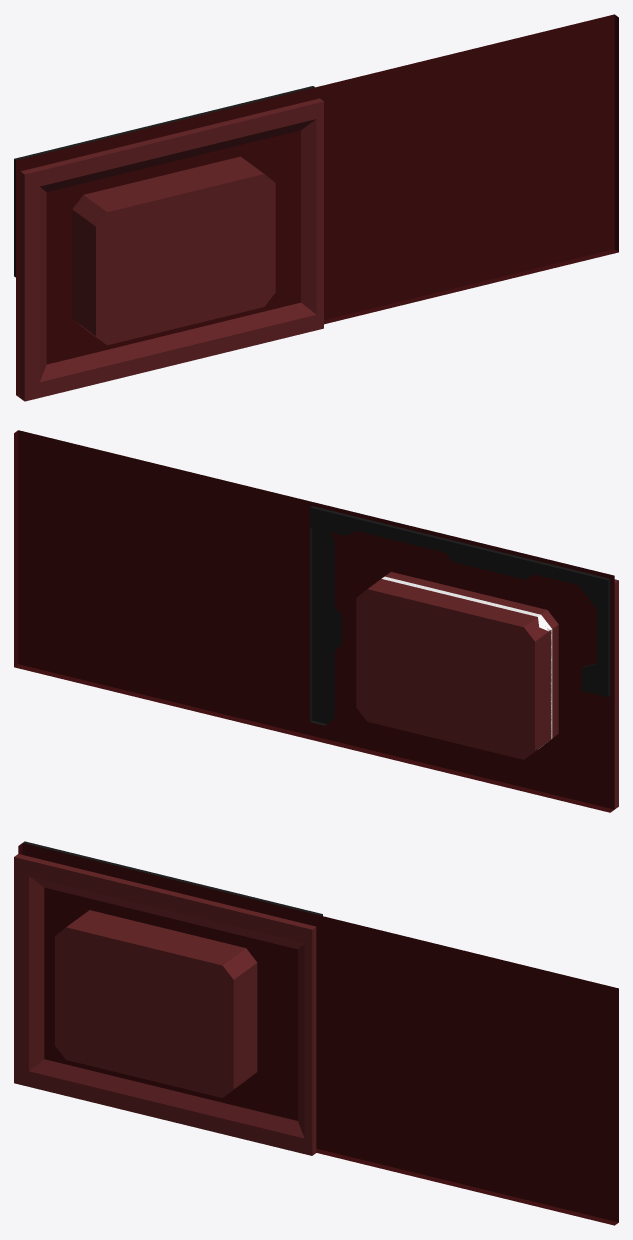
Rendered from Large_Wall_Window.glb.
The picture shows the model from 3 angles, top to bottom: view 1: azimuth 30°, elevation 25°; view 2: azimuth 150°, elevation 25°; view 3: azimuth 330°, elevation 25°; orthographic projection.
Visible parts, largest first — view 1: Large_Wall_Window, Large_Window_Opening, Large_Wall_Interior_Top_Bottom, Large_Wall_Interior_Sides, Large_Extruded_Wall_Window, Large_Window_Frame; view 2: Large_Wall_Window, Large_Window_Opening, Large_Extruded_Wall_Window, Large_Middle_Extrusion, Large_Window_Frame, Large_Wall_Interior_Sides, Large_Window; view 3: Large_Wall_Window, Large_Window_Opening, Large_Wall_Interior_Top_Bottom, Large_Wall_Interior_Sides, Large_Window_Frame, Large_Extruded_Wall_Window.
Boxes of the visible parts, x1,y1,x2,y2 form: Large_Wall_Window: (16,14,618,397); Large_Window_Opening: (72,159,275,345); Large_Wall_Interior_Top_Bottom: (39,103,316,397); Large_Wall_Interior_Sides: (20,98,323,401); Large_Extruded_Wall_Window: (14,86,314,277); Large_Window_Frame: (72,156,244,212); Large_Wall_Window: (14,430,614,812); Large_Window_Opening: (356,579,558,759); Large_Extruded_Wall_Window: (310,506,610,697); Large_Middle_Extrusion: (310,527,341,725); Large_Window_Frame: (385,572,558,628); Large_Wall_Interior_Sides: (614,579,618,809); Large_Window: (381,576,552,749); Large_Wall_Window: (18,843,618,1225); Large_Window_Opening: (55,913,256,1097); Large_Wall_Interior_Top_Bottom: (29,860,304,1153); Large_Wall_Interior_Sides: (14,854,316,1155); Large_Window_Frame: (85,910,257,1072); Large_Extruded_Wall_Window: (23,841,322,915).
Bounding box in the file's own units: 16 × 6 × 2.
